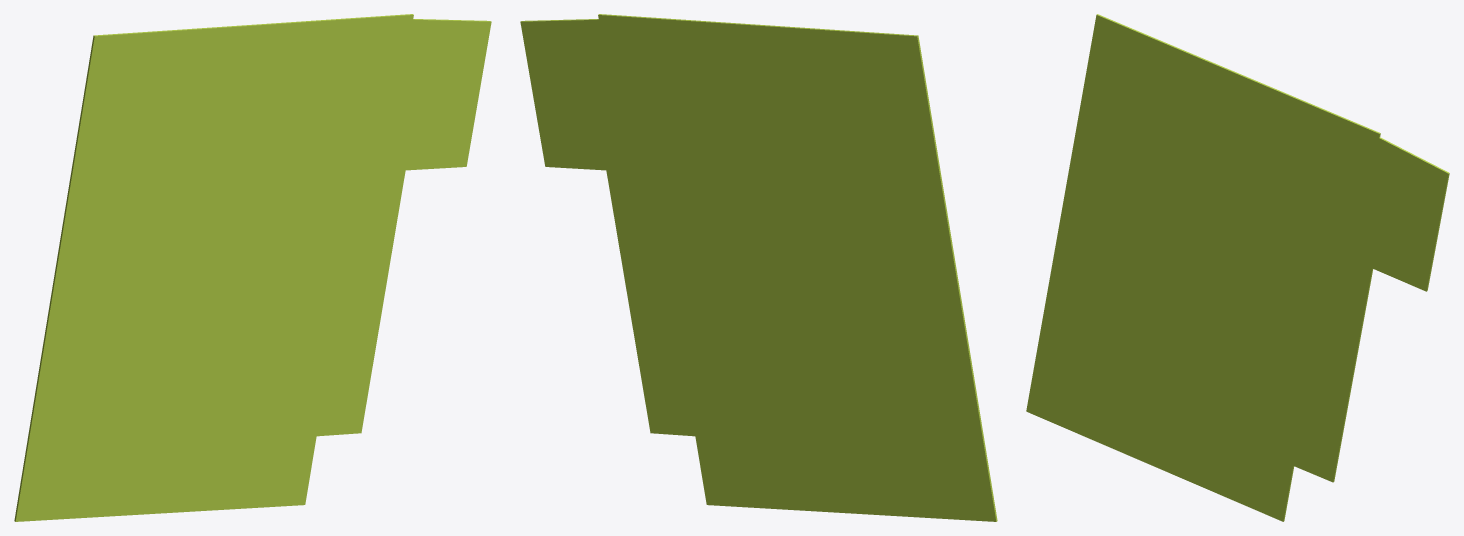
3 views of the same model, side by side, from view 1: azimuth 30°, elevation 25°; view 2: azimuth 150°, elevation 25°; view 3: azimuth 330°, elevation 25° (orthographic). The views are drawn at different scales.
Parts seen in each view (by area): view 1: osm-way27917482-F0; view 2: osm-way27917482-F0; view 3: osm-way27917482-F0.
Part boxes in pixels (<box>): osm-way27917482-F0: <box>14,14,491,521</box>; osm-way27917482-F0: <box>520,14,997,521</box>; osm-way27917482-F0: <box>1026,14,1449,521</box>.
Size of the model in its own units: 33.19 by 34.65 by 0.15.
